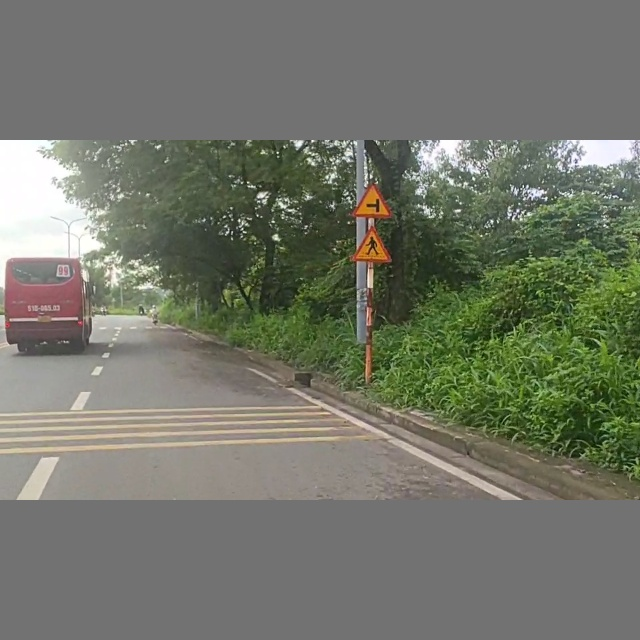W.205c: (353, 182, 396, 220)
W.224: (349, 225, 395, 263)
